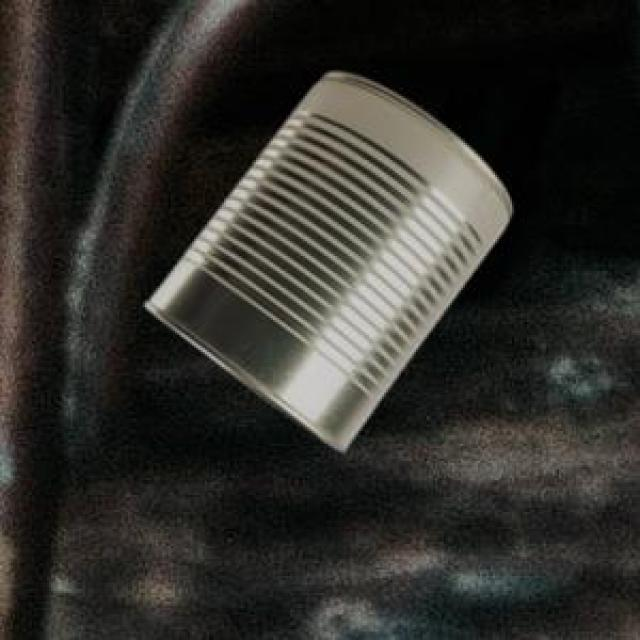logam: (142, 69, 509, 447)
